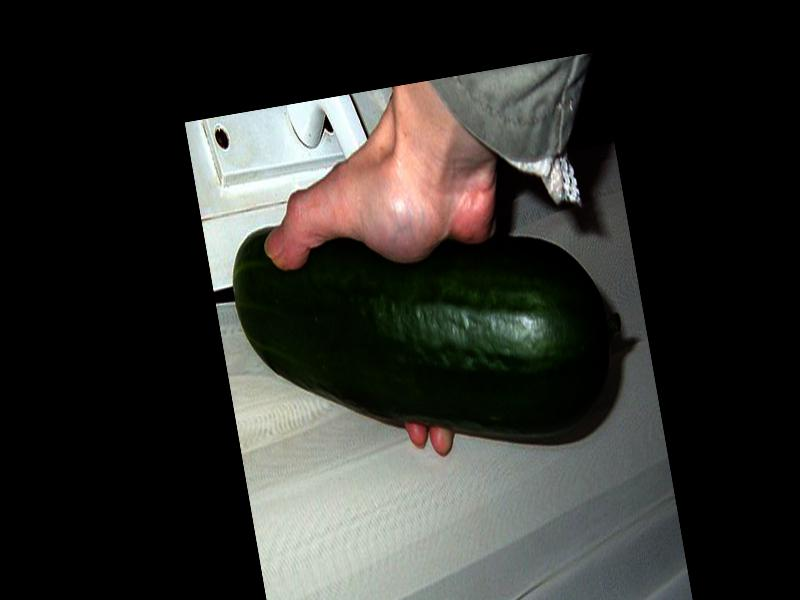Cucumber: (224, 173, 639, 493)
